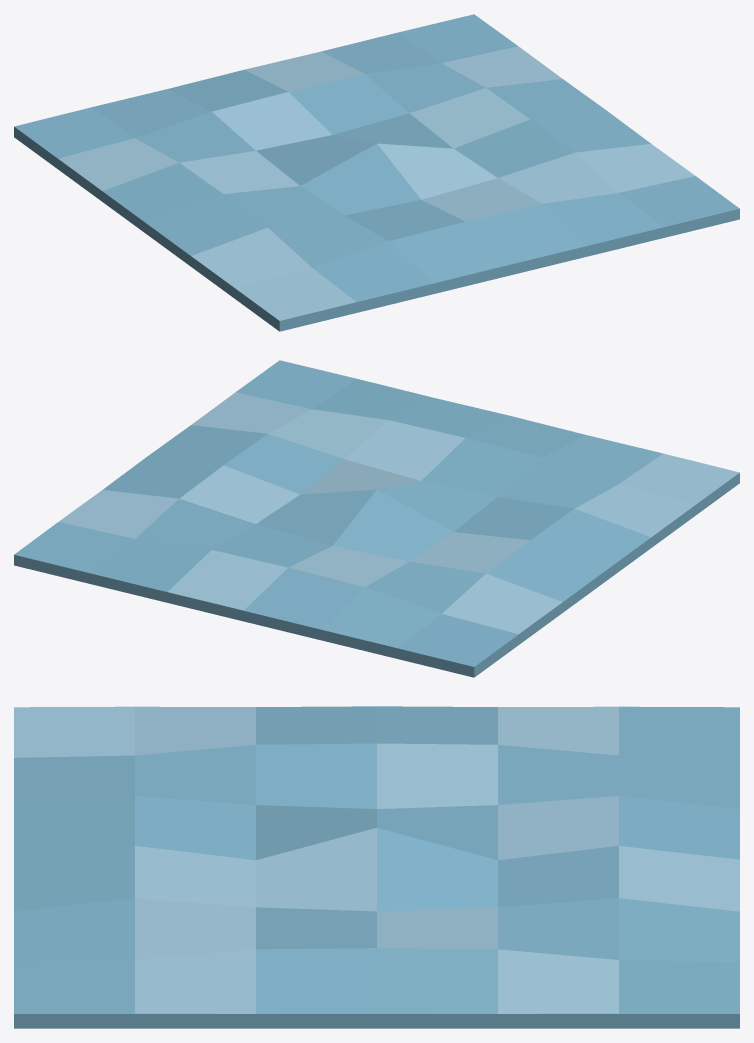
Rendered from animprop_water_06.glb.
3 renders of one model, top to bottom at view 1: azimuth 30°, elevation 25°; view 2: azimuth 150°, elevation 25°; view 3: azimuth 270°, elevation 25°, orthographic. The views are drawn at different scales.
Visible parts, largest first — view 1: animprop; view 2: animprop; view 3: animprop.
Part boxes in pixels (<box>): animprop: <box>14,14,739,331</box>; animprop: <box>14,360,739,677</box>; animprop: <box>14,706,739,1028</box>.
Size of the model in its own units: 1.8 by 0.13 by 1.8.
